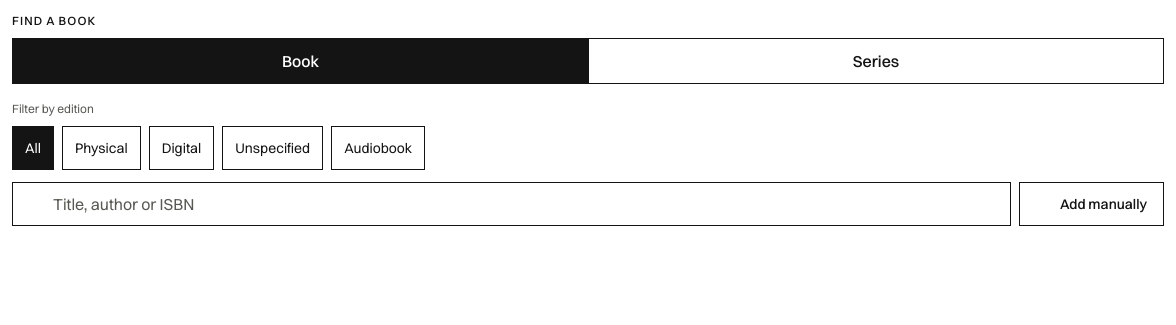
Test: keeps manual entry beside search and opens it on demand
The width and height of the screenshot is (1176, 325).
Expected: the text "Find a book" is shown, [12,13,96,28]
Expected: the field labelled "Book name" is not shown
What coordinates should you click on to do the following:
click the button "Add manually"
I would click on:
 (1091, 204)
Its box is [1019,182,1164,226].
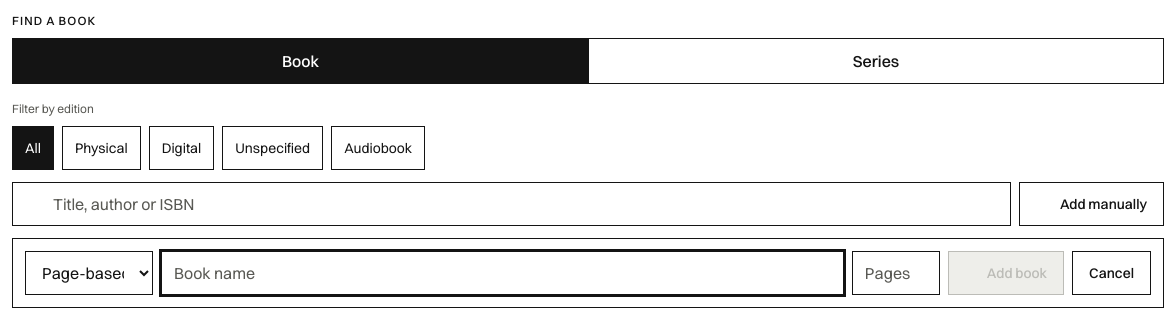
Now the field labelled "Book name" is shown, box [161,251,844,295]
